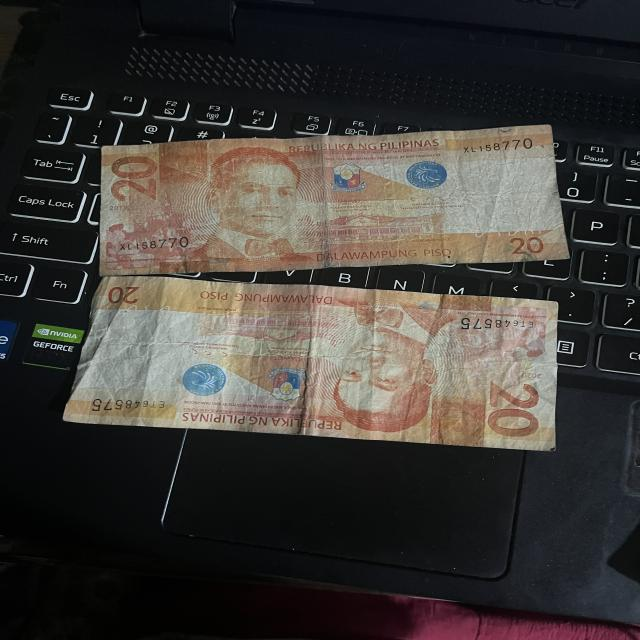concealed_value: (431, 394, 488, 448), (157, 142, 214, 188)
serial_number: (84, 389, 180, 421), (111, 229, 200, 255), (455, 132, 538, 157)
value: (474, 379, 543, 438), (112, 154, 165, 213)
